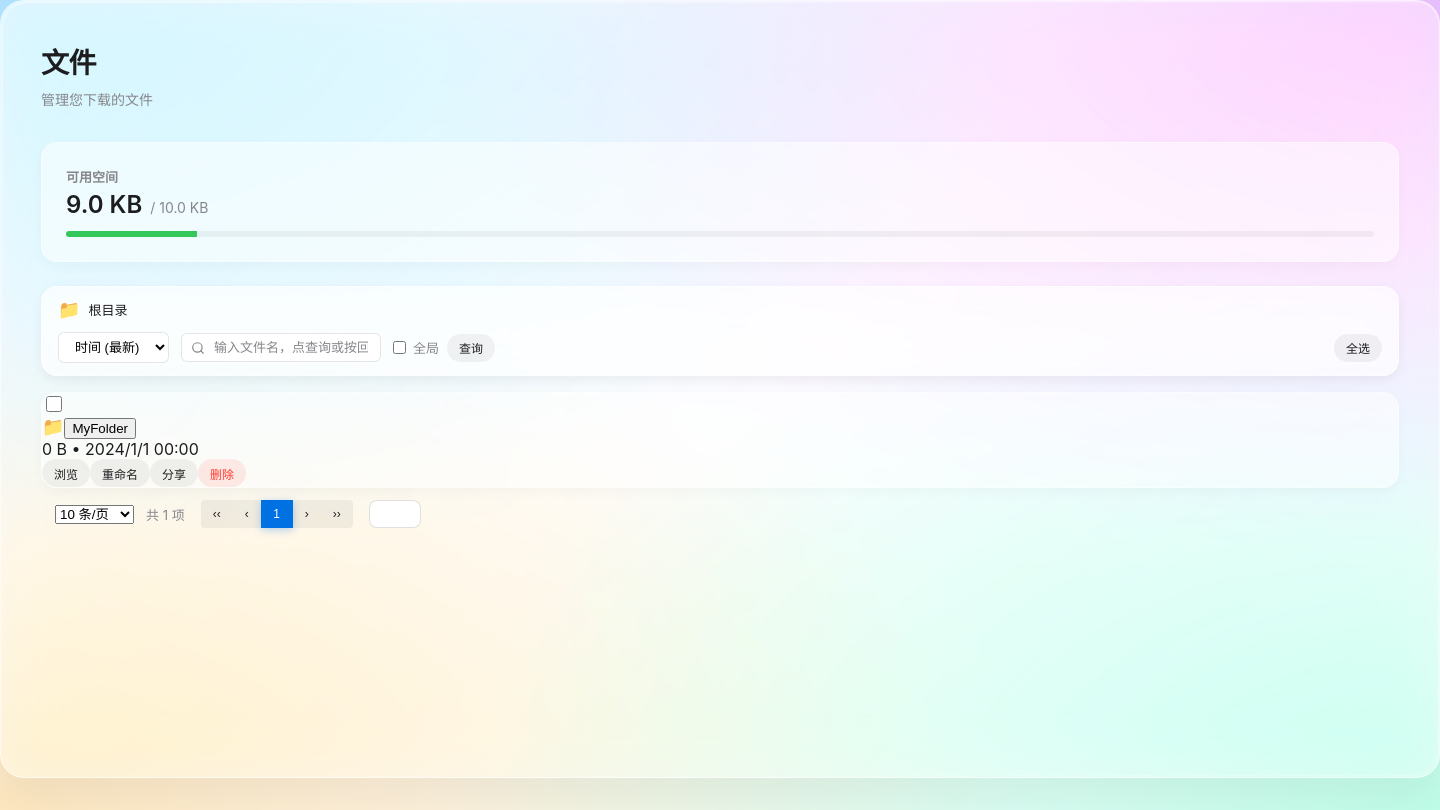
Test: FilesPage mobile folder view › delete inside a folder shows the unsupported toast
Check: the button "MyFolder" is shown, box [64, 418, 136, 439]
Click the button "浏览".
click(66, 473)  # box [42, 459, 90, 487]
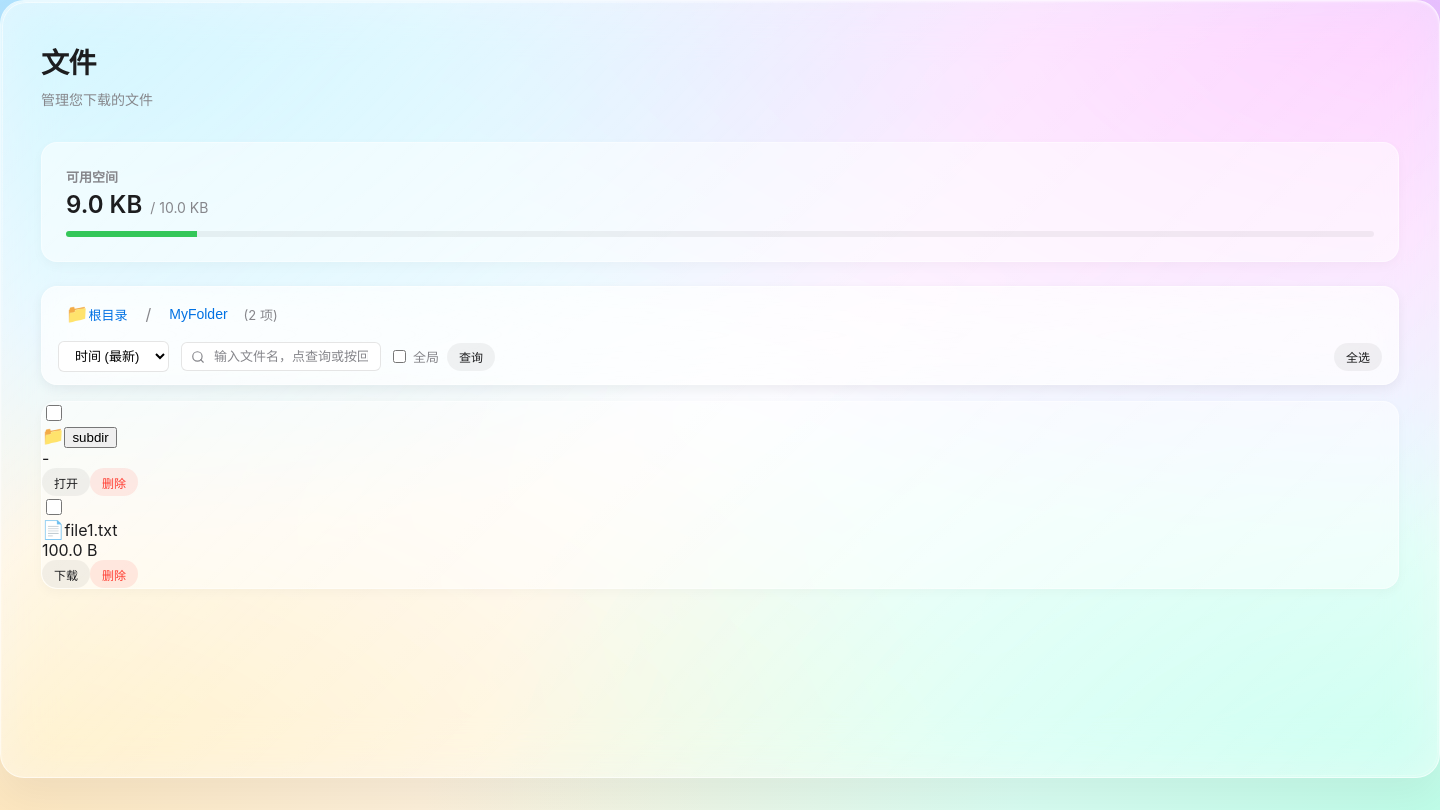
Check: the text "file1.txt" is shown, box [64, 520, 118, 540]
Click the 1st button "删除".
click(114, 482)  # box [90, 468, 138, 496]
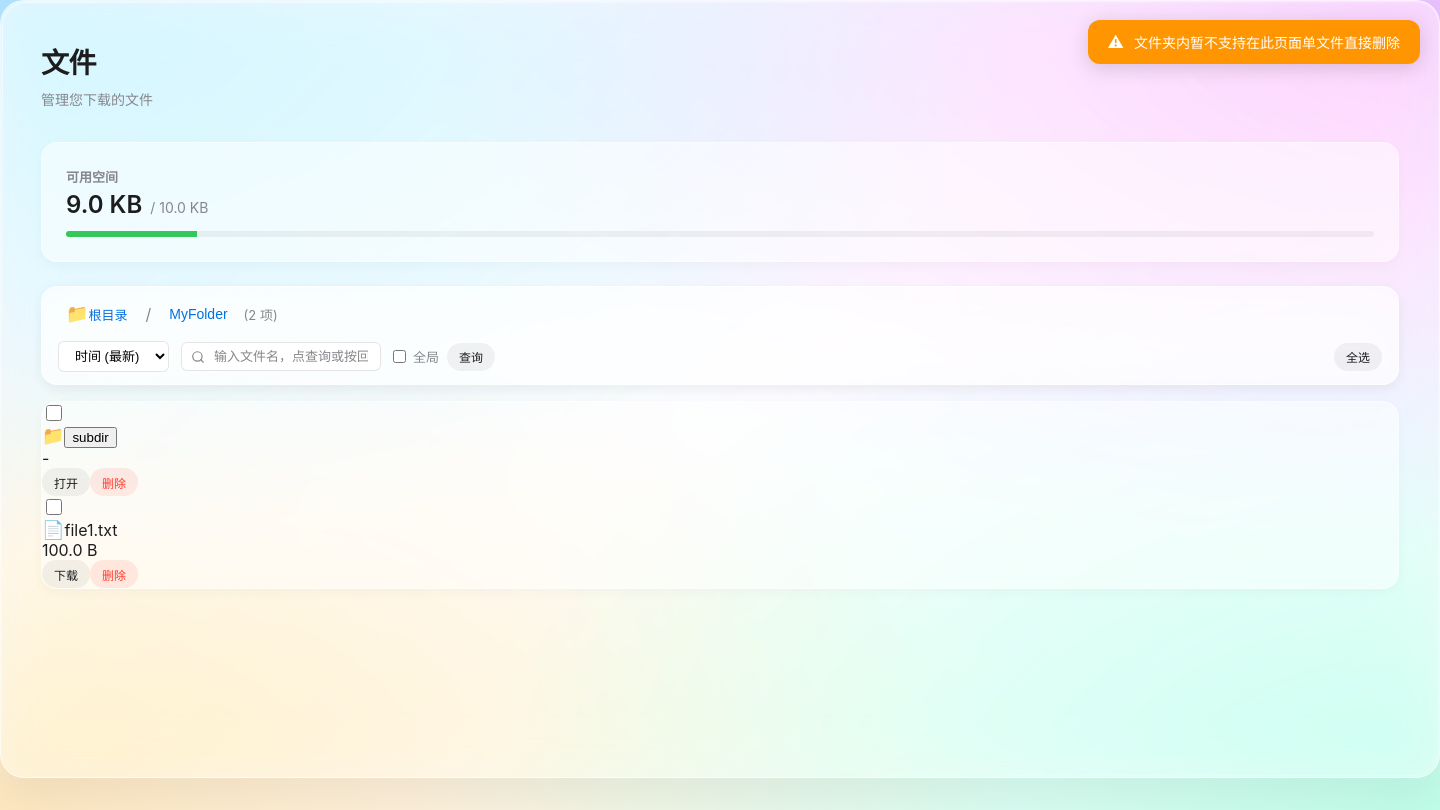
Check: the text "文件夹内暂不支持在此页面单文件直接删除" is shown, box [1134, 32, 1400, 52]
